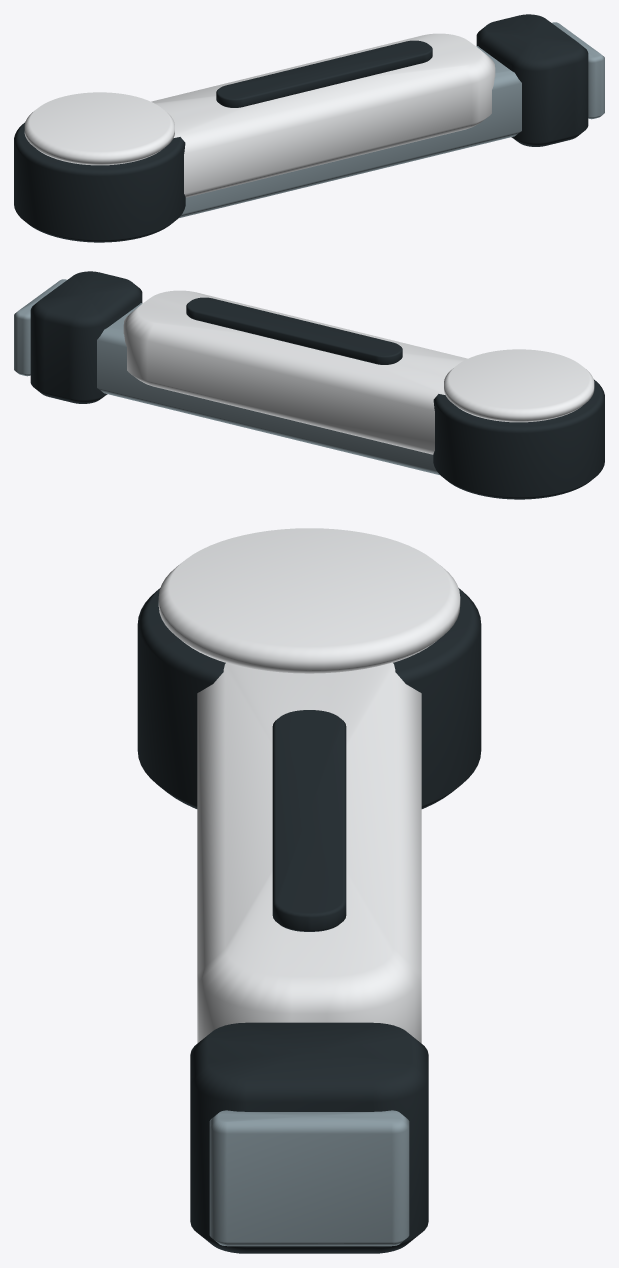
The model's file is arm.dae.
3 views of the same model, one above another, from view 1: azimuth 30°, elevation 25°; view 2: azimuth 150°, elevation 25°; view 3: azimuth 270°, elevation 25° (orthographic). The views are drawn at different scales.
Parts seen in each view (by area): view 1: mesh3-node, mesh0-node, mesh5-node, mesh1-node, mesh2-node, mesh4-node, mesh6-node; view 2: mesh3-node, mesh0-node, mesh5-node, mesh1-node, mesh2-node, mesh4-node, mesh6-node; view 3: mesh3-node, mesh1-node, mesh5-node, mesh6-node, mesh0-node, mesh4-node.
Boxes of the visible parts, box(x1,y1,x2,y2) form: mesh3-node: box(151, 33, 495, 197); mesh0-node: box(14, 122, 185, 242); mesh5-node: box(476, 14, 588, 146); mesh1-node: box(24, 92, 174, 165); mesh2-node: box(179, 46, 521, 217); mesh4-node: box(216, 40, 432, 107); mesh6-node: box(552, 22, 604, 119); mesh3-node: box(123, 290, 467, 454); mesh0-node: box(433, 379, 604, 499); mesh5-node: box(30, 271, 142, 403); mesh1-node: box(444, 349, 594, 422); mesh2-node: box(97, 303, 439, 474); mesh4-node: box(186, 297, 402, 364); mesh6-node: box(14, 279, 66, 376); mesh3-node: box(197, 662, 421, 1043); mesh1-node: box(158, 528, 460, 673); mesh5-node: box(190, 1022, 428, 1253); mesh6-node: box(209, 1110, 409, 1246); mesh0-node: box(137, 588, 481, 808); mesh4-node: box(272, 710, 346, 931).
Size of the model in its own units: 0.3675 by 0.098 by 0.068.
